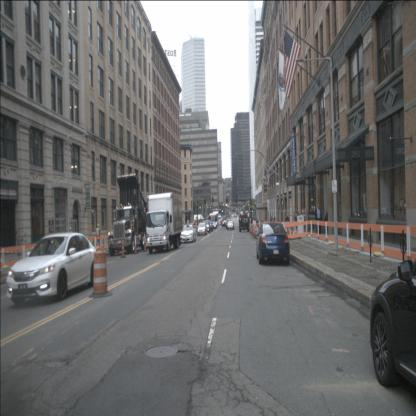human-pedestrian-adult: (315, 204, 323, 236), (286, 214, 290, 234), (273, 215, 276, 231), (270, 213, 272, 229)
movable_object-trafficcone: (88, 246, 113, 298), (0, 248, 6, 285), (121, 232, 126, 258), (134, 231, 138, 254), (143, 231, 147, 252), (252, 224, 255, 236)
vehicle-bus-rigid: (210, 212, 218, 229)
vehicle-car: (6, 232, 100, 305), (372, 261, 415, 375), (257, 223, 290, 265), (180, 224, 196, 244), (202, 220, 210, 233), (198, 223, 206, 236), (206, 220, 212, 232), (227, 220, 234, 230), (222, 220, 228, 228)
vehicle-truck: (148, 191, 182, 254), (108, 204, 139, 257)
